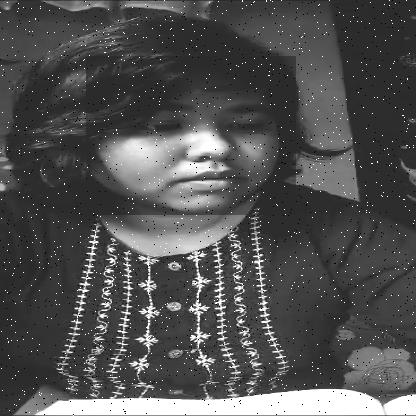Distracted: (86, 56, 296, 215)
